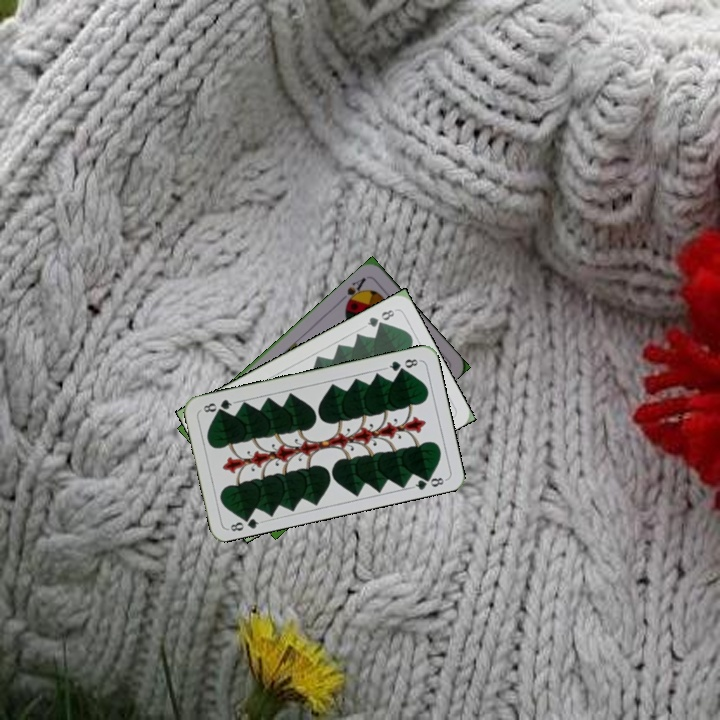G8: (225, 510, 265, 534), (363, 305, 399, 330), (382, 355, 422, 374)
SA: (341, 273, 369, 309)
